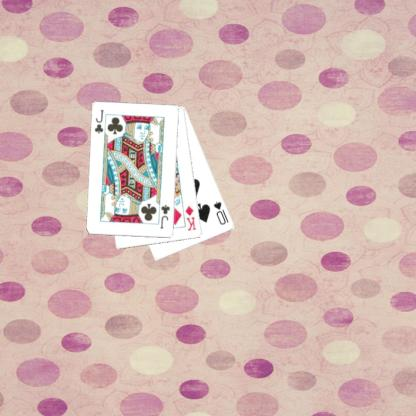10S: (211, 199, 230, 226)
JC: (158, 202, 172, 230), (92, 108, 105, 135)
KD: (183, 203, 197, 232)
